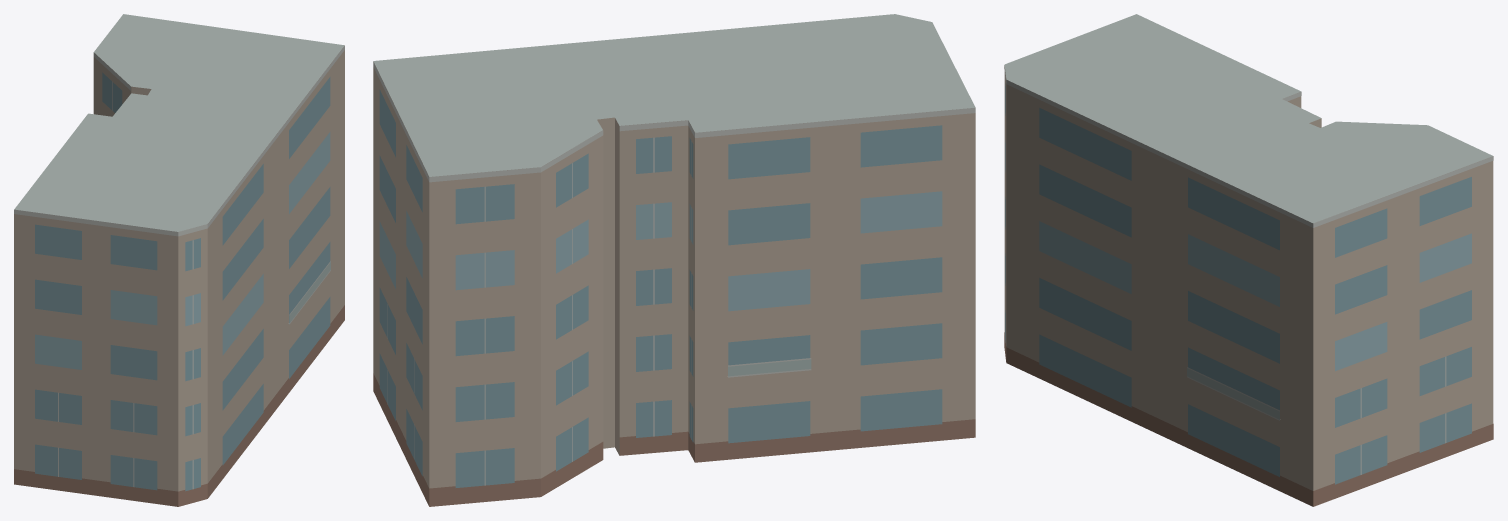
The model's file is survey-upis-33012256.glb.
The picture shows the model from 3 angles, left to right: view 1: azimuth 30°, elevation 25°; view 2: azimuth 150°, elevation 25°; view 3: azimuth 270°, elevation 25°; orthographic projection. The views are drawn at different scales.
Parts seen in each view (by area): view 1: survey-upis-33012256.tmp; view 2: survey-upis-33012256.tmp; view 3: survey-upis-33012256.tmp.
Part boxes in pixels (<box>): survey-upis-33012256.tmp: <box>14,14,344,506</box>; survey-upis-33012256.tmp: <box>373,14,975,506</box>; survey-upis-33012256.tmp: <box>1004,14,1493,506</box>.
Size of the model in its own units: 23.86 by 15.05 by 23.54.
